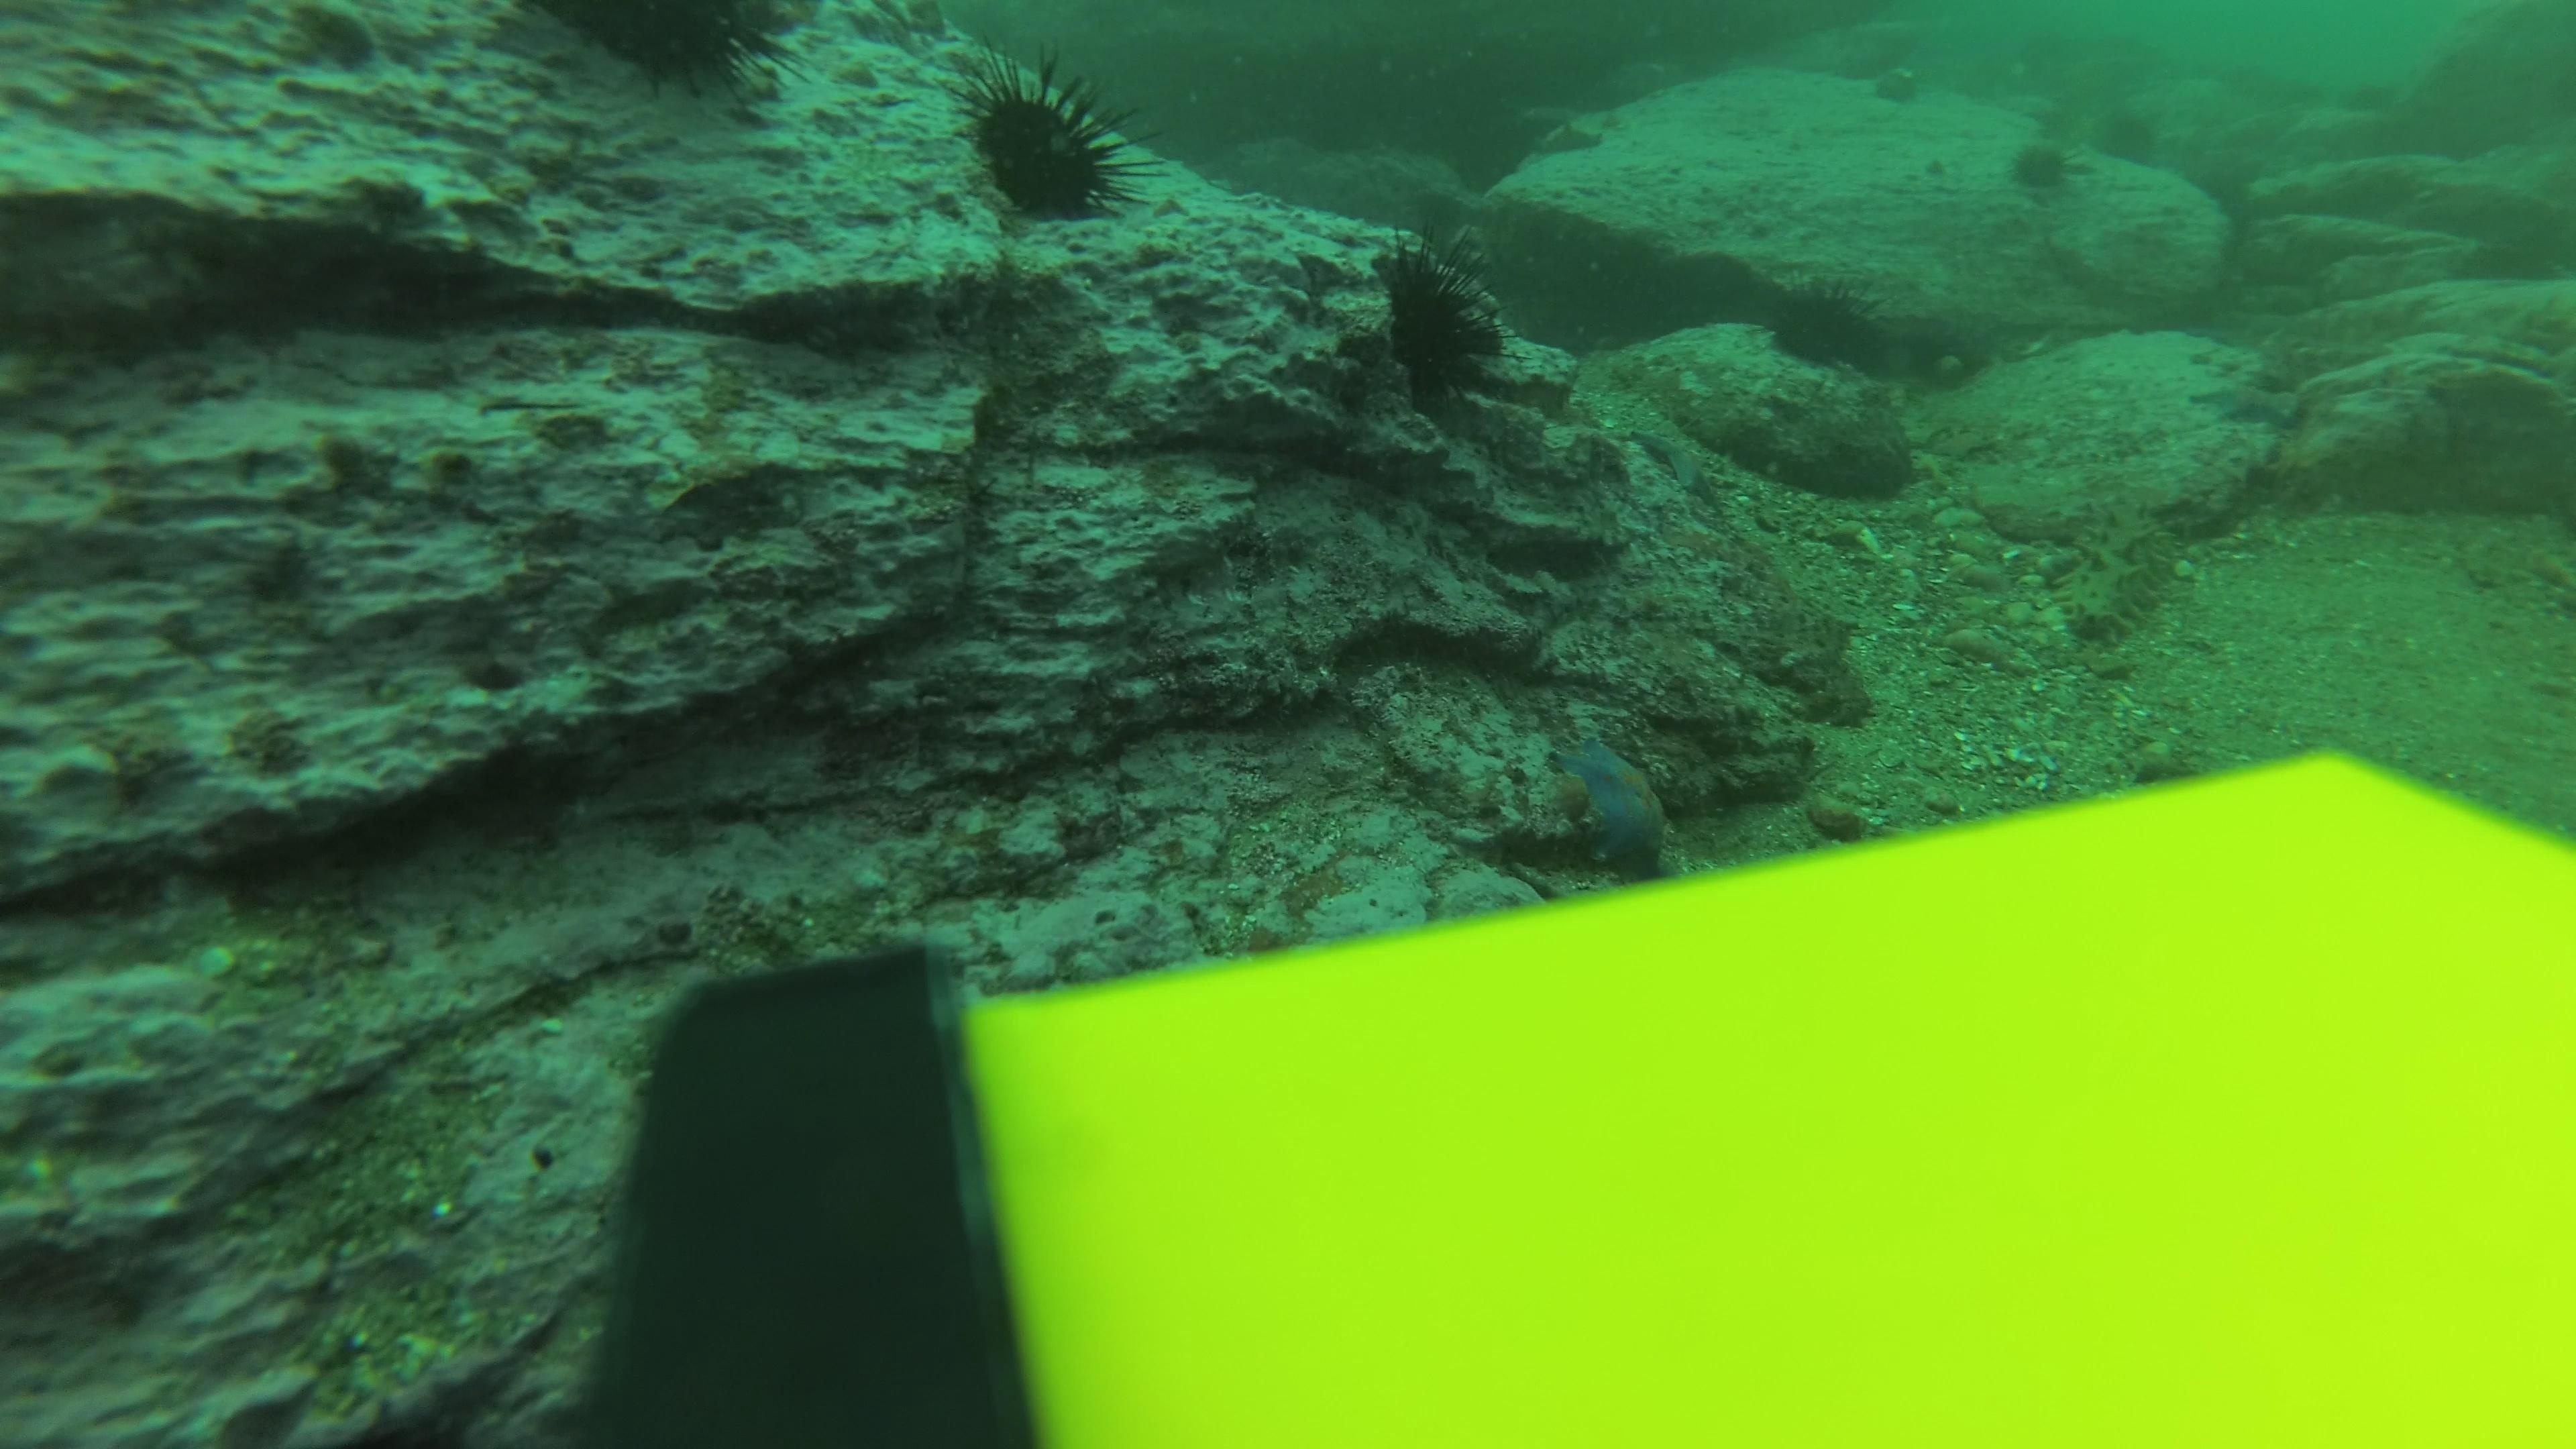echinus: (947, 50, 1146, 232), (536, 2, 809, 110), (1364, 235, 1516, 423), (1760, 278, 1888, 377), (2001, 131, 2086, 203)
holothurian: (2054, 499, 2192, 653)
starfish: (1545, 725, 1683, 878), (1621, 400, 1732, 508), (2185, 372, 2305, 432), (1525, 108, 1615, 161)
